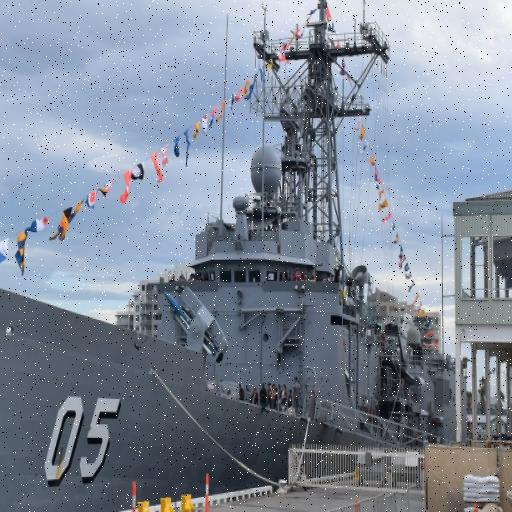Fragata: (1, 1, 456, 512)
